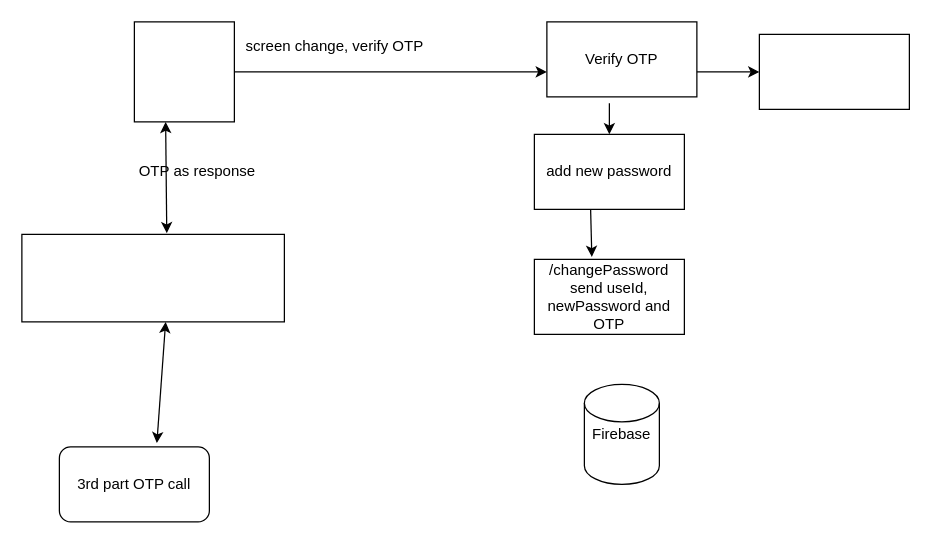
Image size: 931x544. Some labels were removed from this diagram. The centre of each missing label's shape, as x and y in pixels:
"/reset-password save OTP to user-transaction-collection" goes at point 152,277.
"/verifyOTP" goes at point 833,71.
"App" goes at point 183,71.
